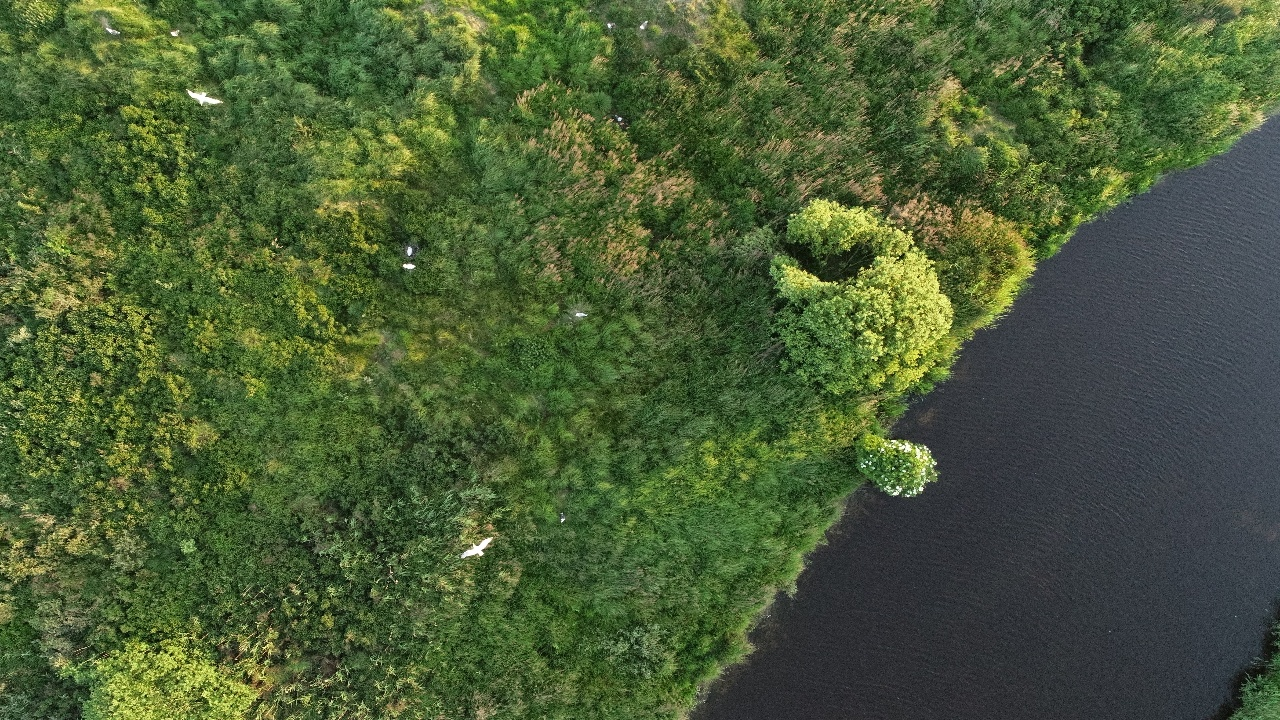Bird: (451, 530, 504, 570), (182, 84, 227, 112), (633, 14, 656, 36), (570, 305, 594, 326), (398, 258, 422, 279), (397, 240, 421, 261), (609, 108, 633, 129), (552, 505, 576, 526), (163, 23, 187, 44), (99, 21, 123, 42), (599, 15, 623, 36)
